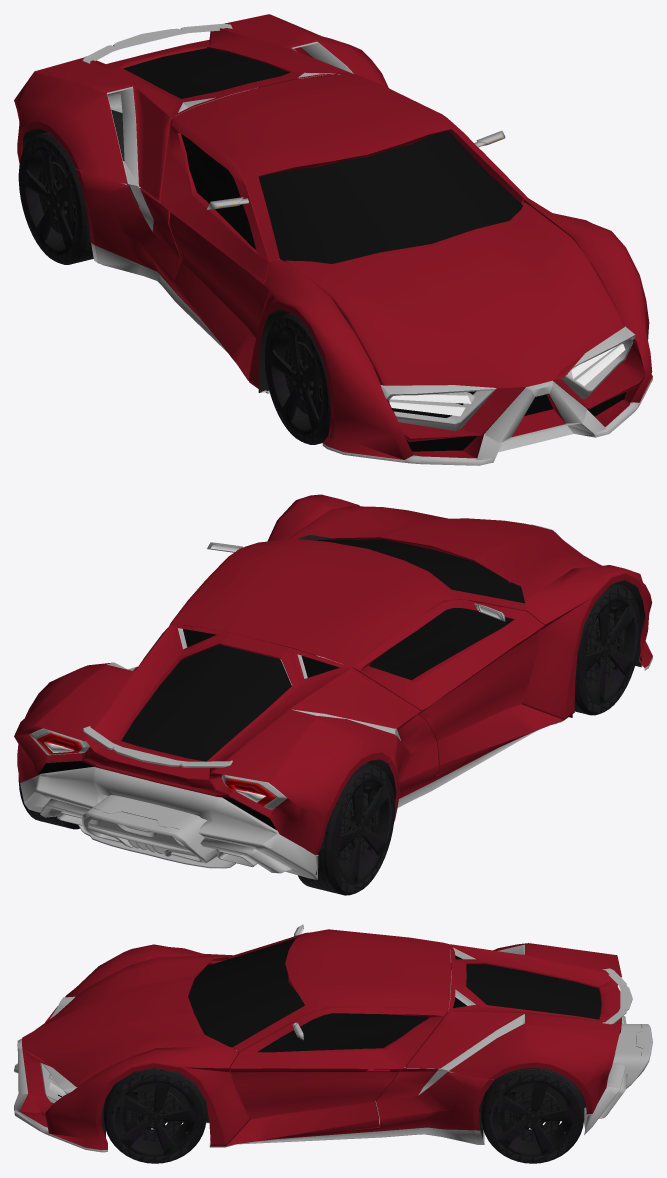
The picture shows the model from 3 angles, top to bottom: view 1: azimuth 30°, elevation 25°; view 2: azimuth 150°, elevation 25°; view 3: azimuth 270°, elevation 25°; orthographic projection. The views are drawn at different scales.
Visible parts, largest first — view 1: FC2, Rim (×2), Tyre (×2), proppeler; view 2: FC2, Rim (×2), proppeler, Tyre (×2); view 3: FC2, Rim (×2), Tyre (×2), proppeler.
Boxes of the visible parts, x1=… form: FC2: x1=14, y1=14, x2=652, y2=465; Rim (×2): x1=18, y1=138, x2=327, y2=442; Tyre (×2): x1=26, y1=132, x2=330, y2=444; proppeler: x1=82, y1=23, x2=232, y2=112; FC2: x1=14, y1=494, x2=652, y2=879; Rim (×2): x1=331, y1=588, x2=640, y2=893; proppeler: x1=78, y1=726, x2=235, y2=868; Tyre (×2): x1=298, y1=583, x2=632, y2=895; FC2: x1=14, y1=924, x2=627, y2=1152; Rim (×2): x1=106, y1=1074, x2=581, y2=1163; Tyre (×2): x1=103, y1=1067, x2=584, y2=1163; proppeler: x1=602, y1=968, x2=652, y2=1088.
Bounding box in the file's own units: 194 × 109 × 434.
